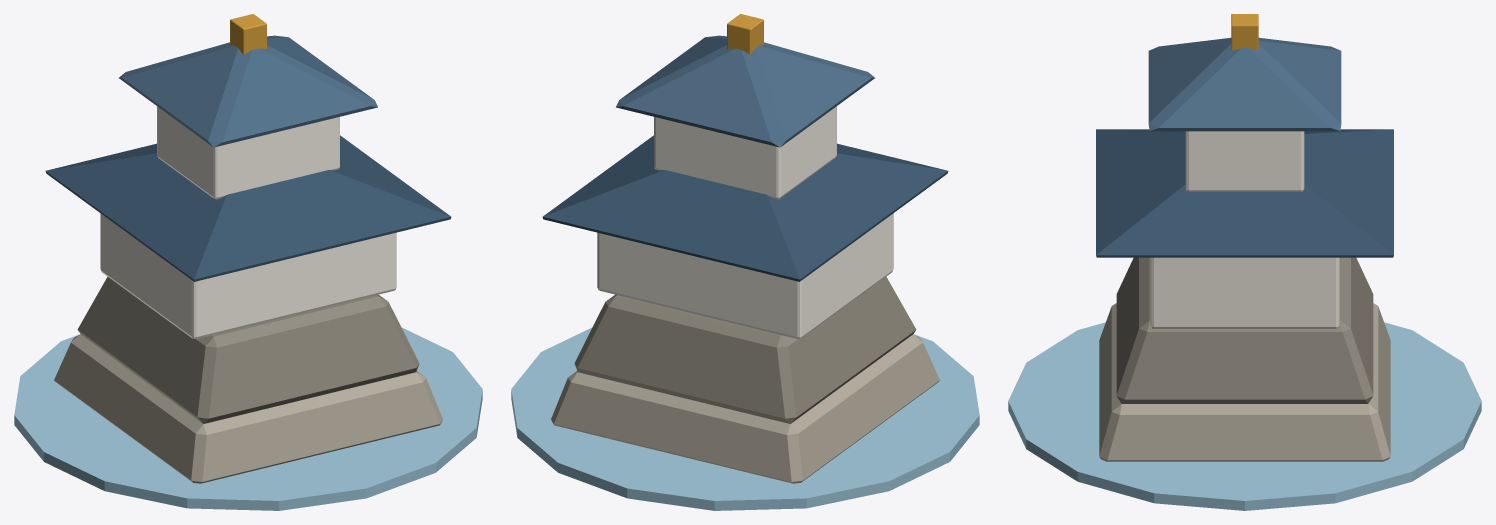
The model's file is castle-hirajiro.glb.
3 views of the same model, side by side, from view 1: azimuth 30°, elevation 25°; view 2: azimuth 150°, elevation 25°; view 3: azimuth 270°, elevation 25° (orthographic).
Visible parts, largest first — view 1: castle-hirajiro; view 2: castle-hirajiro; view 3: castle-hirajiro.
Part boxes in pixels (bbox=[...]): castle-hirajiro: bbox=[14, 14, 482, 510]; castle-hirajiro: bbox=[511, 14, 979, 510]; castle-hirajiro: bbox=[1008, 14, 1481, 510].
Bounding box in the file's own units: 0.6 × 0.5475 × 0.6.
